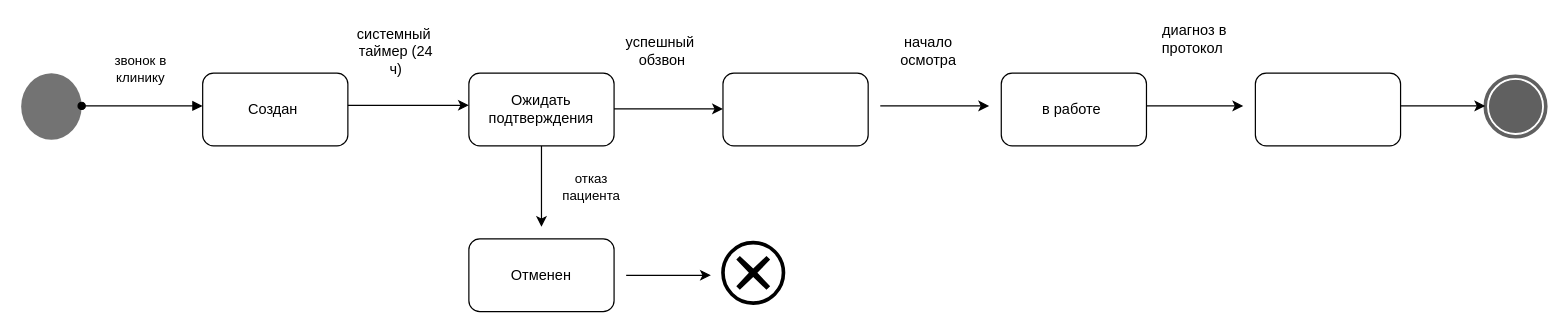
The diagram is 1567 pixels wide and 333 high, and some of its shapes have lost their labels. Each missing label, with the box of its shape:
Завершен: (1254, 72, 1401, 146)
Подтвержден: (722, 72, 868, 146)
